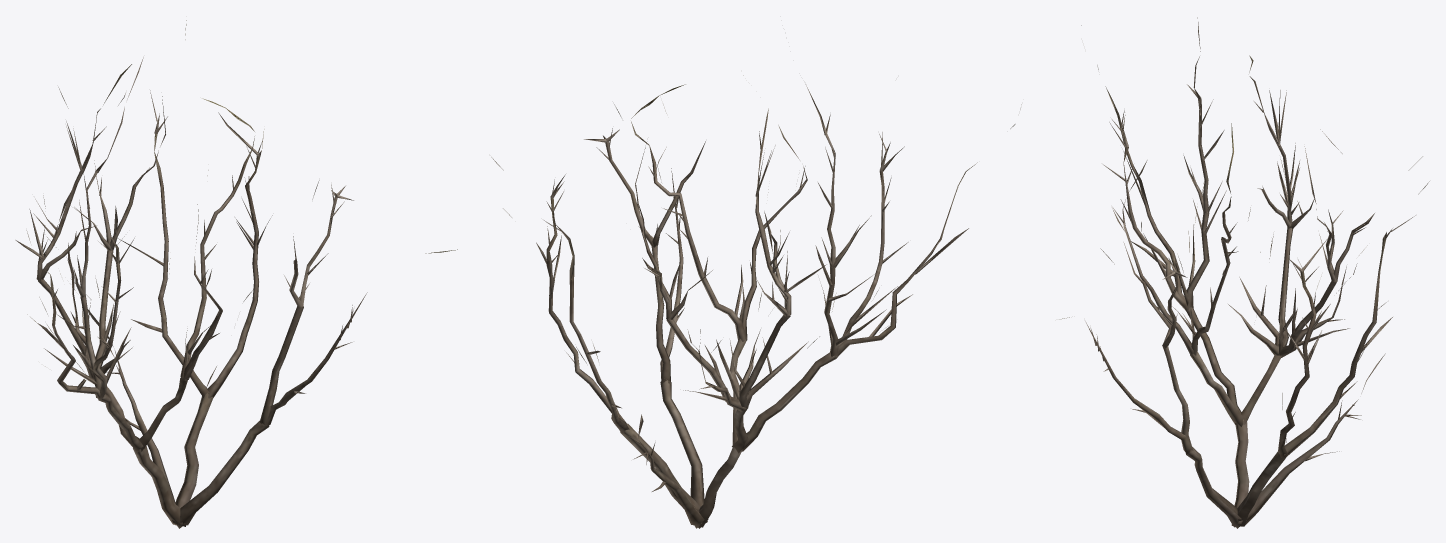
Rendered from searsia_c.glb.
3 renders of one model, left to right at view 1: azimuth 30°, elevation 25°; view 2: azimuth 150°, elevation 25°; view 3: azimuth 270°, elevation 25°, orthographic. The views are drawn at different scales.
Visible parts, largest first — view 1: lod0; view 2: lod0; view 3: lod0.
Boxes of the visible parts, <box> form: lod0: <box>15,20,457,528</box>; lod0: <box>491,75,1021,528</box>; lod0: <box>1059,17,1429,528</box>.
Size of what is drawn, in the model's own units: 1.33 by 1.52 by 1.08.
1 material, 1 textured.
